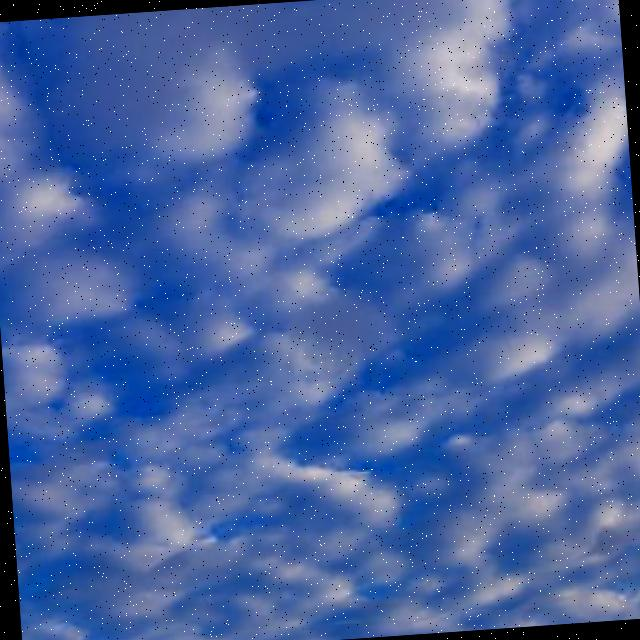Ci: (1, 1, 640, 612)
